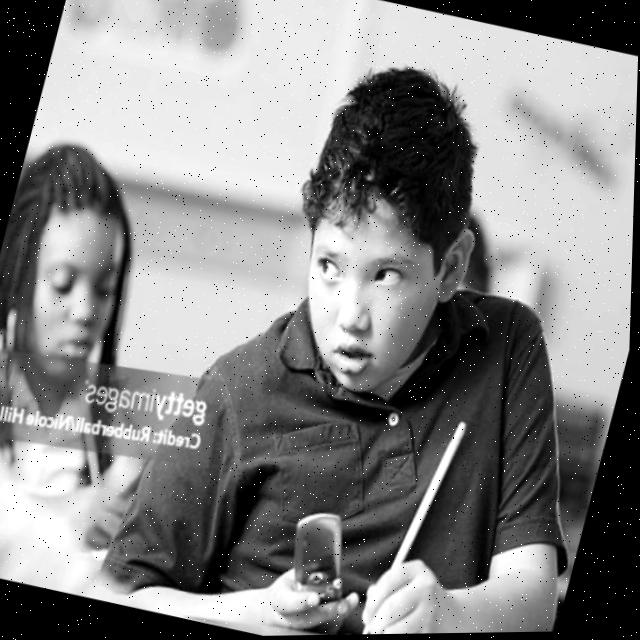phone: (280, 502, 369, 612)
